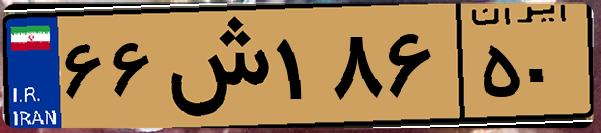0: (525, 38, 570, 115)
1: (270, 28, 330, 110)
5: (475, 38, 525, 113)
6: (385, 28, 445, 110), (57, 26, 110, 100), (110, 28, 158, 98)
8: (330, 28, 385, 110)
ش: (158, 12, 270, 120)
